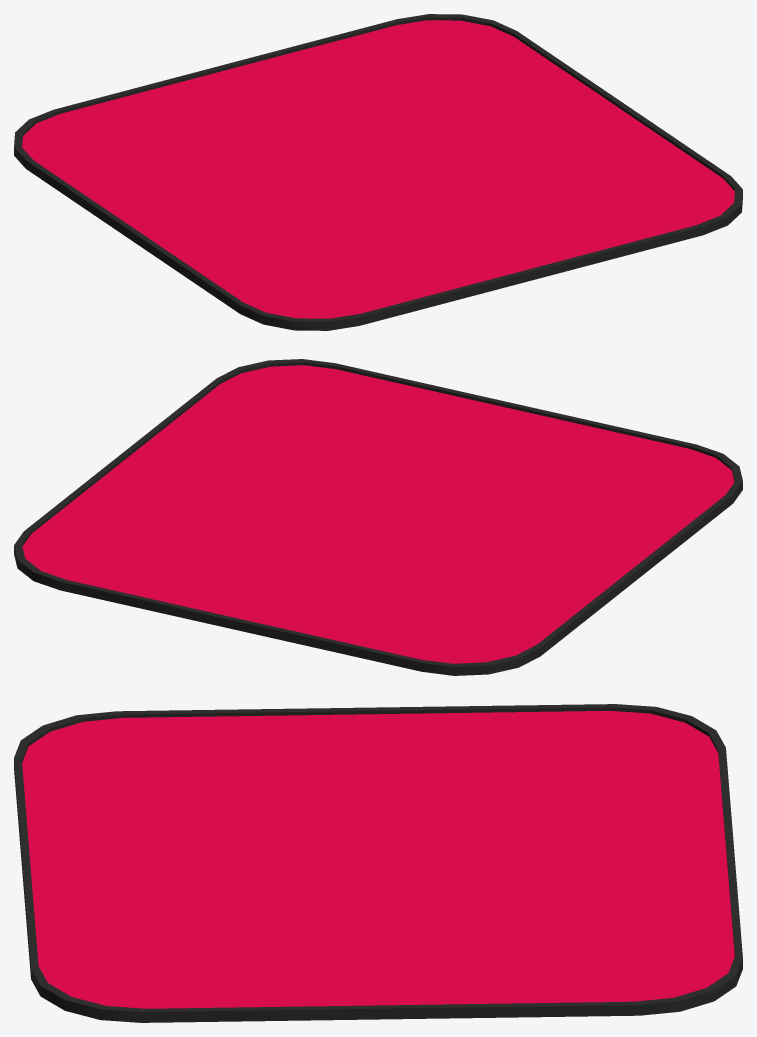
The model's file is FatherMousepad.fbx.
The picture shows the model from 3 angles, top to bottom: view 1: azimuth 30°, elevation 25°; view 2: azimuth 150°, elevation 25°; view 3: azimuth 270°, elevation 25°; orthographic projection. The views are drawn at different scales.
Visible parts, largest first — view 1: MousePad; view 2: MousePad; view 3: MousePad.
Boxes of the visible parts, <box> form: MousePad: <box>14,14,742,330</box>; MousePad: <box>14,359,742,675</box>; MousePad: <box>14,704,742,1022</box>.
Size of the model in its own units: 45.54 by 0.7452 by 45.54.
